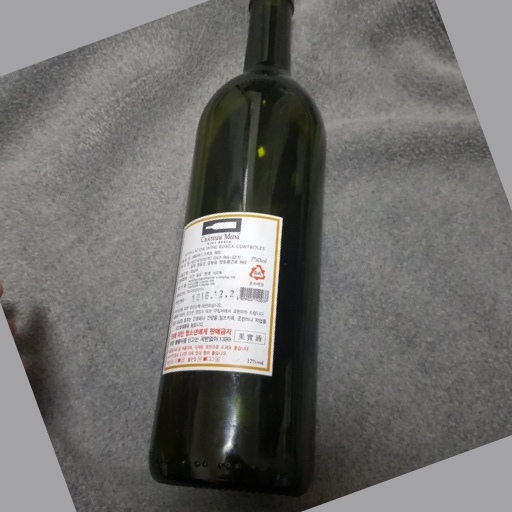Glass_2: (146, 2, 328, 499)
